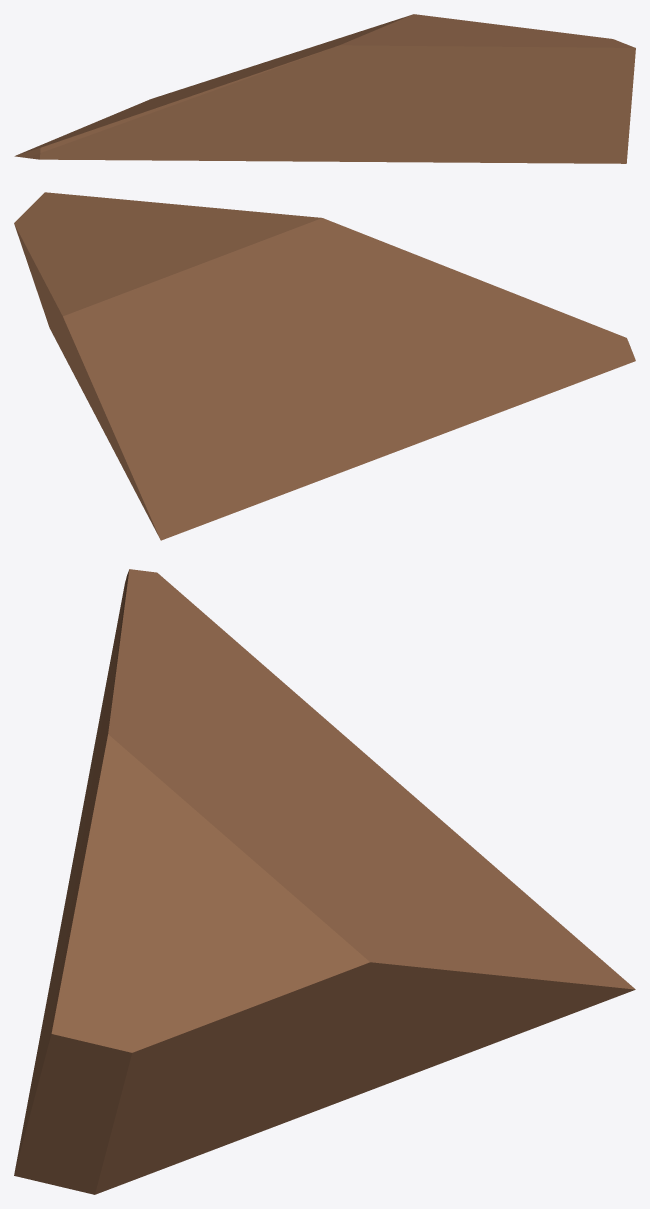
The model's file is WoodCellCube_003_cell_030.fbx.
3 renders of one model, top to bottom at view 1: azimuth 30°, elevation 25°; view 2: azimuth 150°, elevation 25°; view 3: azimuth 270°, elevation 25°, orthographic. The views are drawn at different scales.
Visible parts, largest first — view 1: WoodCellCube_003_cell_030; view 2: WoodCellCube_003_cell_030; view 3: WoodCellCube_003_cell_030.
Part boxes in pixels (x1=…): WoodCellCube_003_cell_030: x1=14, y1=14, x2=635, y2=163; WoodCellCube_003_cell_030: x1=14, y1=192, x2=635, y2=540; WoodCellCube_003_cell_030: x1=14, y1=569, x2=635, y2=1194.
Size of the model in its own units: 0.5165 by 0.2469 by 0.8799.
1 material, 1 textured.
